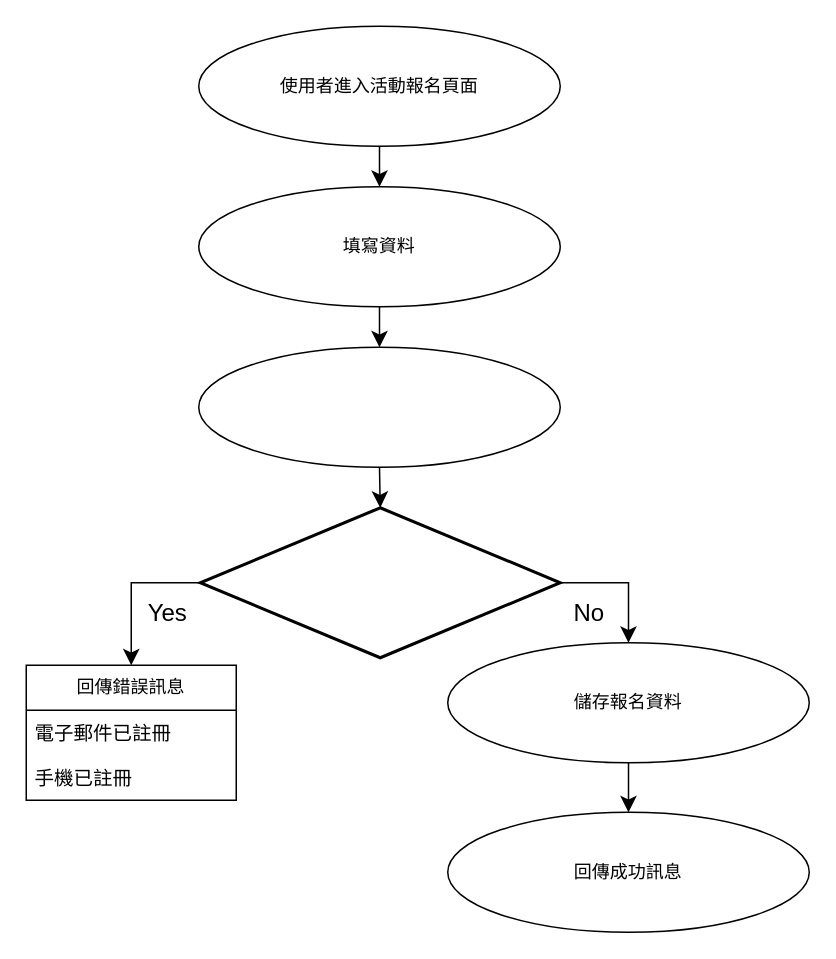
Some shapes in this 836 by 959 pixel diagram are drawn without their labels. The shapes that lost their labels are listed below. From the top down, each one's box as (x1, y1, x2, y2) in pixels, then its label:
(197, 346, 560, 467): 送出報名
(198, 506, 561, 658): 報名資料檢查
